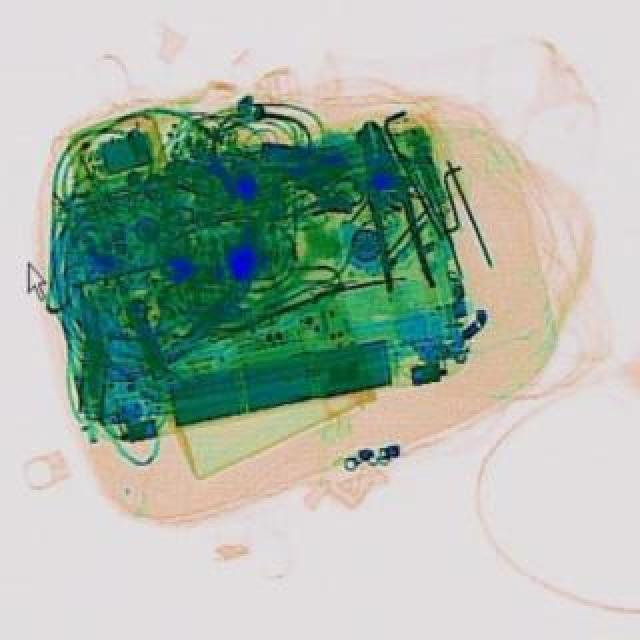wrench: (344, 114, 436, 294)
